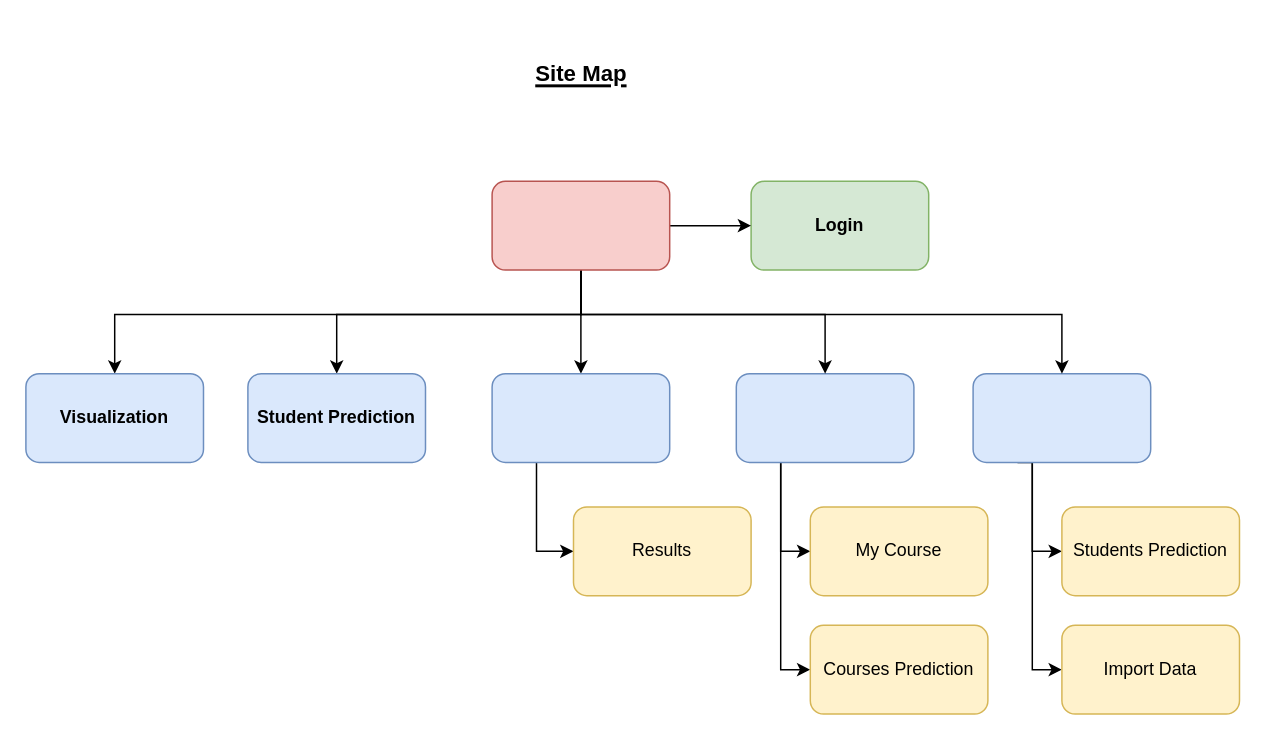
This 1265x740 diagram has some shape labels left out. The shapes that lost their labels are listed below. From the top down, each one's centre as x and y in pixels, then its label:
At (x=580, y=225): "Home".
At (x=580, y=417): "Student Analytics".
At (x=824, y=417): "Teacher".
At (x=1061, y=417): "Curriculum Committee".
